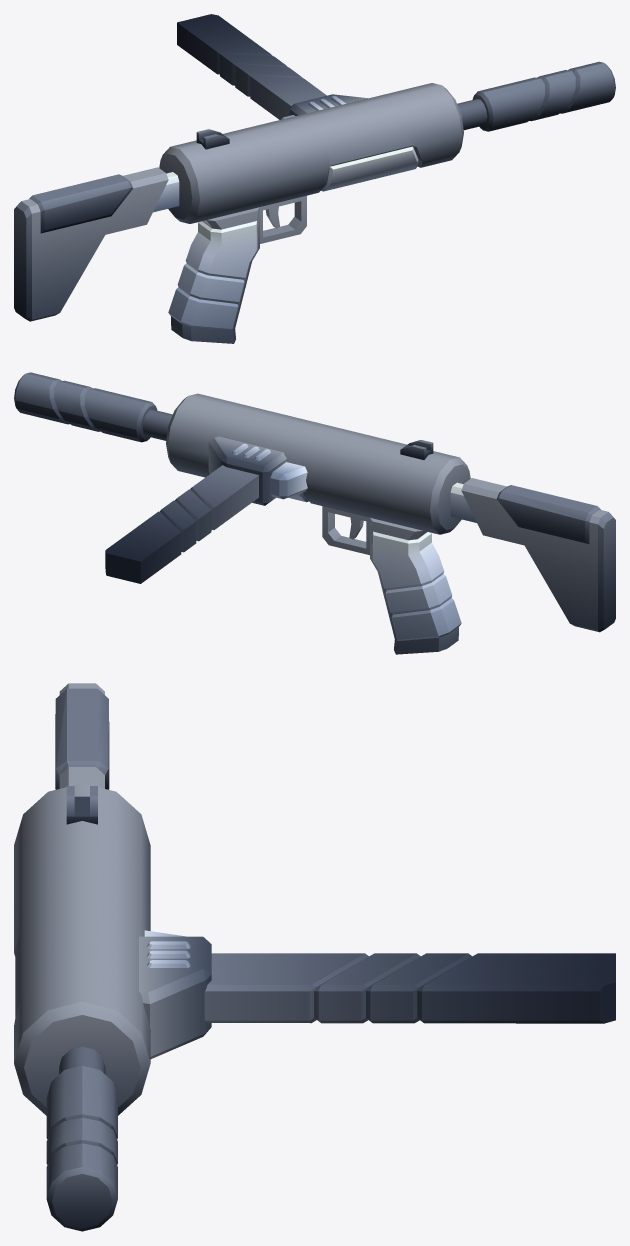
The model's file is Weapon5.FBX.
3 renders of one model, top to bottom at view 1: azimuth 30°, elevation 25°; view 2: azimuth 150°, elevation 25°; view 3: azimuth 270°, elevation 25°, orthographic. The views are drawn at different scales.
Visible parts, largest first — view 1: Cylinder022; view 2: Cylinder022; view 3: Cylinder022.
Part boxes in pixels (x1,y1,x2,y2): Cylinder022: (14,14,615,343); Cylinder022: (14,372,615,654); Cylinder022: (14,683,615,1231).
Size of the model in its own units: 51.65 by 17.47 by 26.85.
